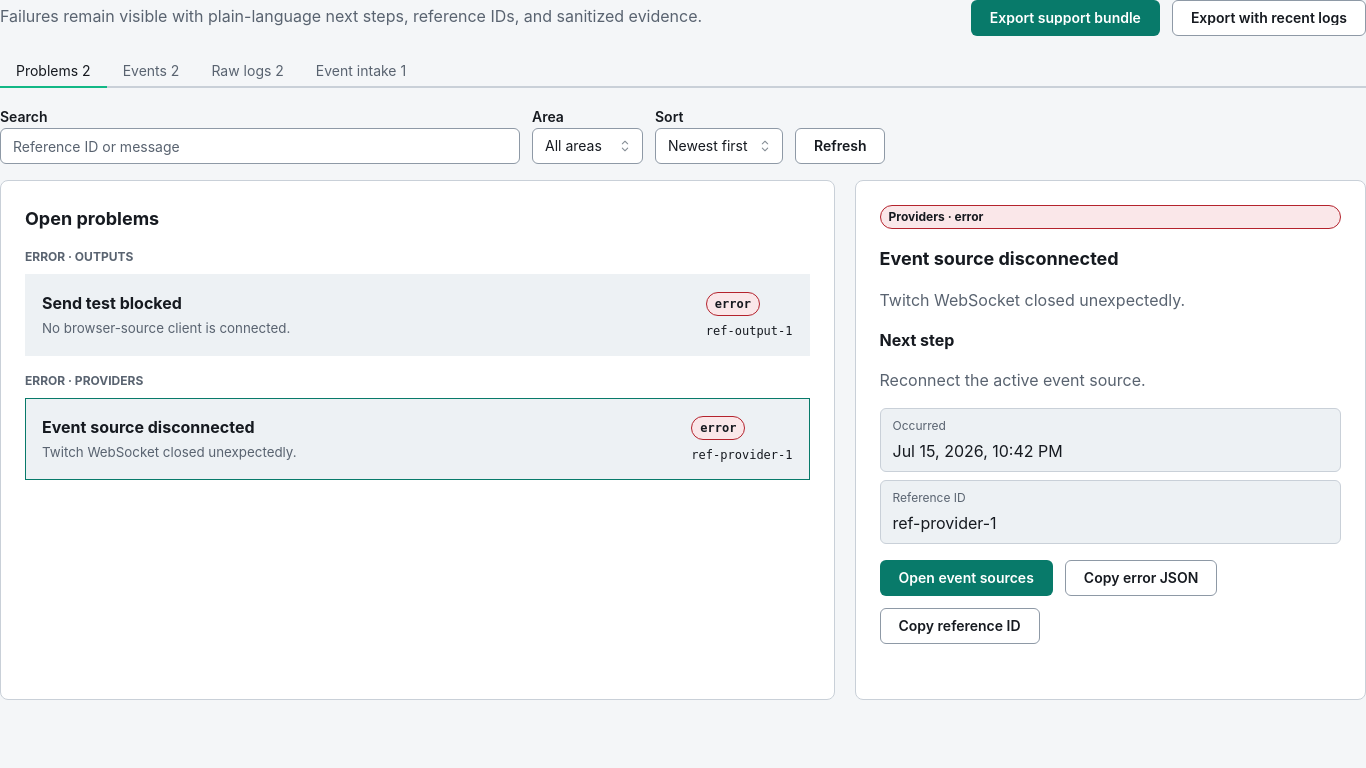
it: DiagnosticsPanel › shows manual provenance and trusted submission channel without treating it as provider delivery
Click the tab "Event intake 1". click: click(361, 72)
box: [300,56,422,88]
(page scrolled)
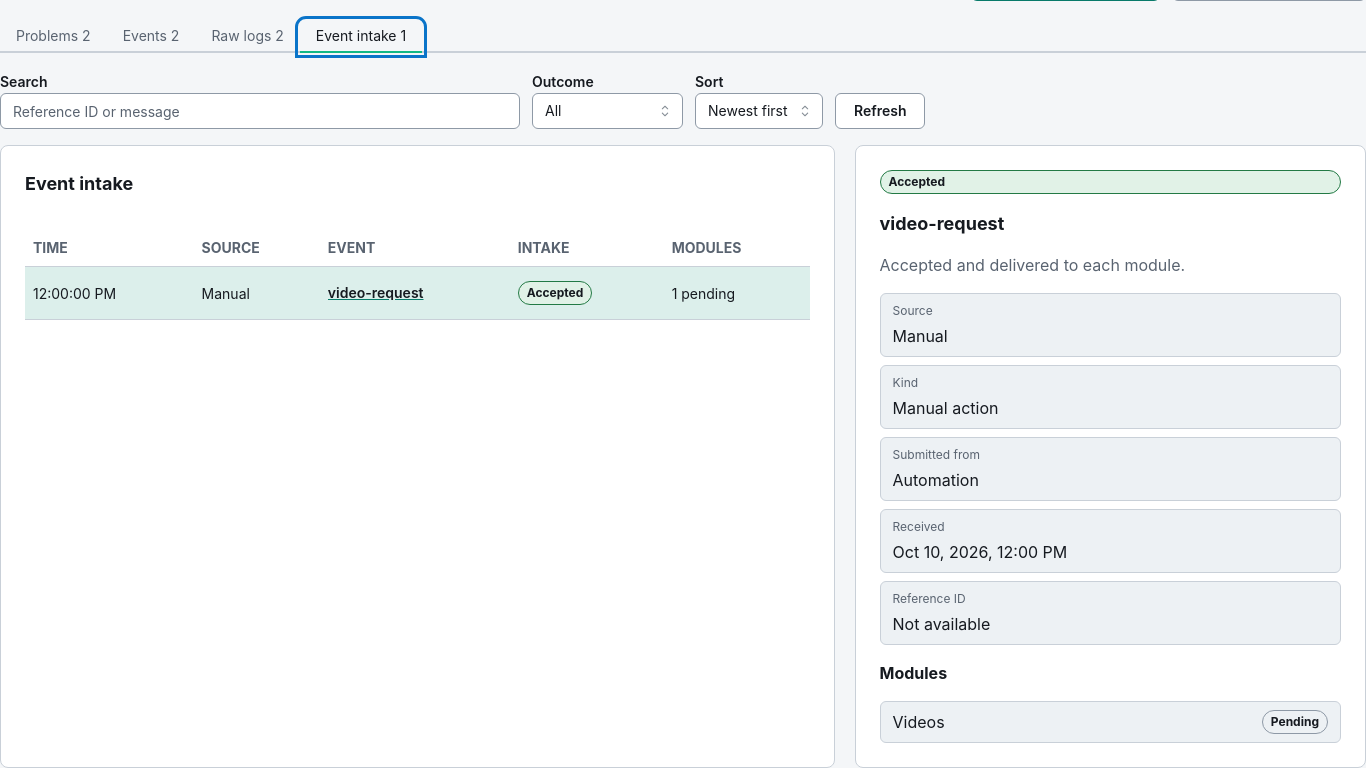
Check: the text "Manual" is shown, box [194,266,320,320]
Check: the element named "Bus event detail" shows "Manual action", box [892,398,998,418]
Check: the element named "Bus event detail" shows "Pending", box [1271,714,1319,729]
